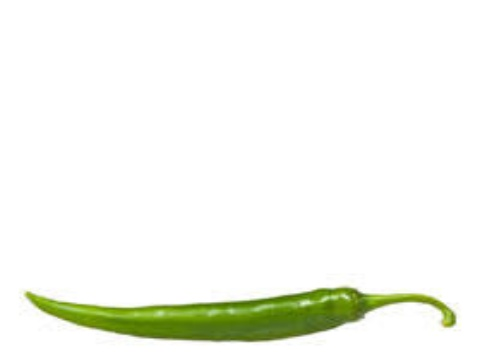Chilli: (11, 273, 467, 346)
